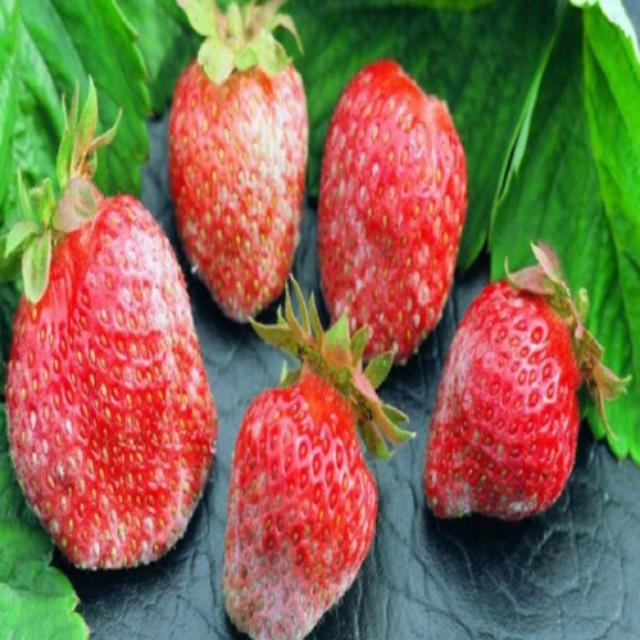Powdery Mildew Fruit: (3, 192, 220, 570), (220, 356, 382, 638), (319, 59, 468, 365), (169, 38, 308, 323), (422, 274, 583, 517)
